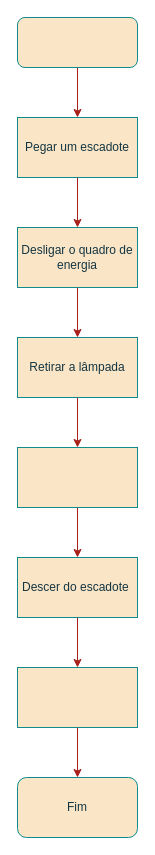
This 155x855 diagram has some shape labels left out. Here are the shapes that lost their labels. From the top down, the centre of each, then its label:
the point at 77,42: Início
the point at 77,477: Colocar uma nova lâmpada
the point at 77,697: Ligar o quadro
